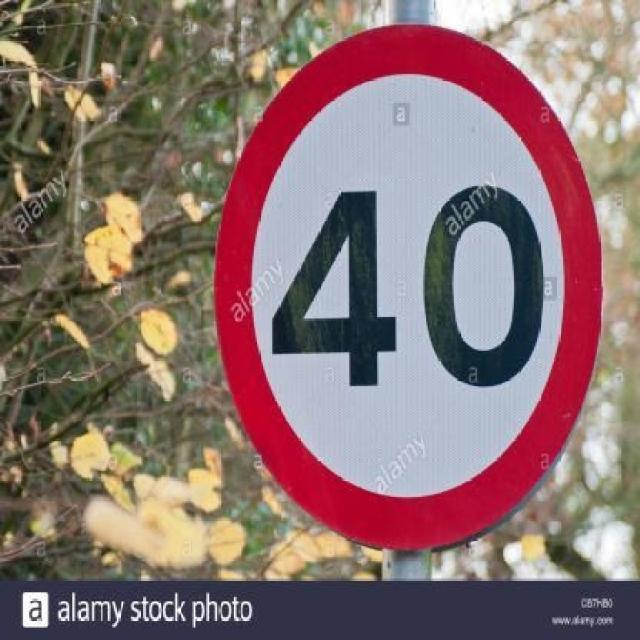forb_speed_over_40: (216, 23, 602, 548)
